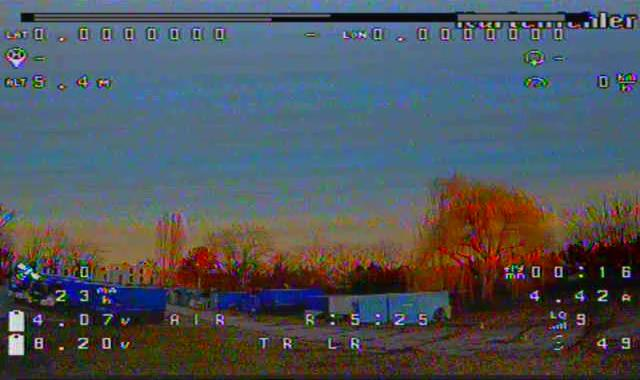truck: (35, 258, 88, 321)
